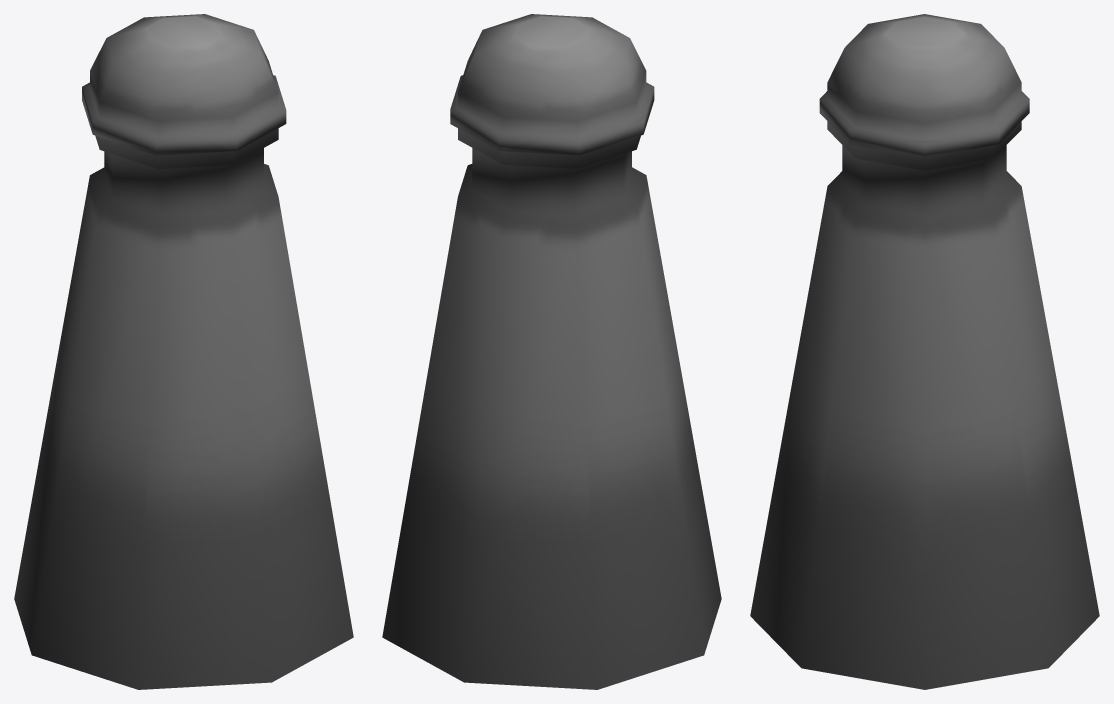
Rendered from Parador.fbx.
3 renders of one model, left to right at view 1: azimuth 30°, elevation 25°; view 2: azimuth 150°, elevation 25°; view 3: azimuth 270°, elevation 25°, orthographic.
Visible parts, largest first — view 1: Parador; view 2: Parador; view 3: Parador.
Boxes of the visible parts, x1,y1,x2,y2 form: Parador: (14,14,353,689); Parador: (382,14,721,689); Parador: (750,14,1099,689).
Bounding box in the file's own units: 131 × 241 × 131.
